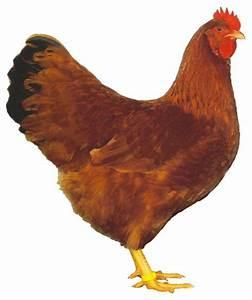hen: (5, 5, 246, 293)
